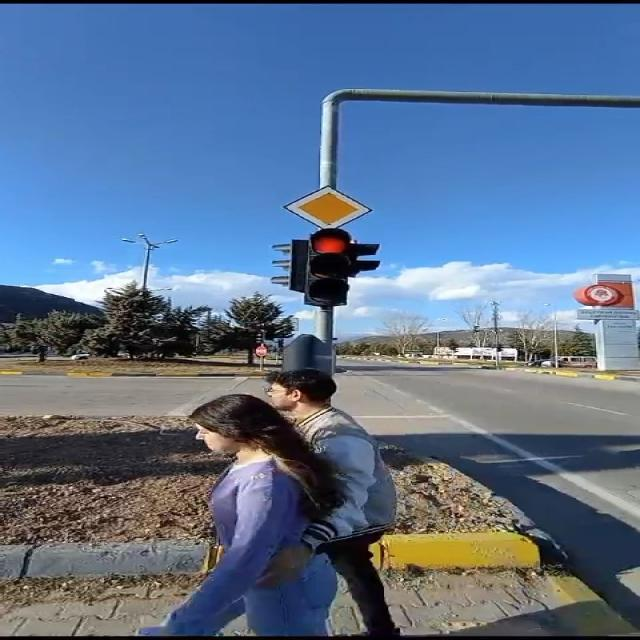kirmizi: (304, 228, 381, 306)
